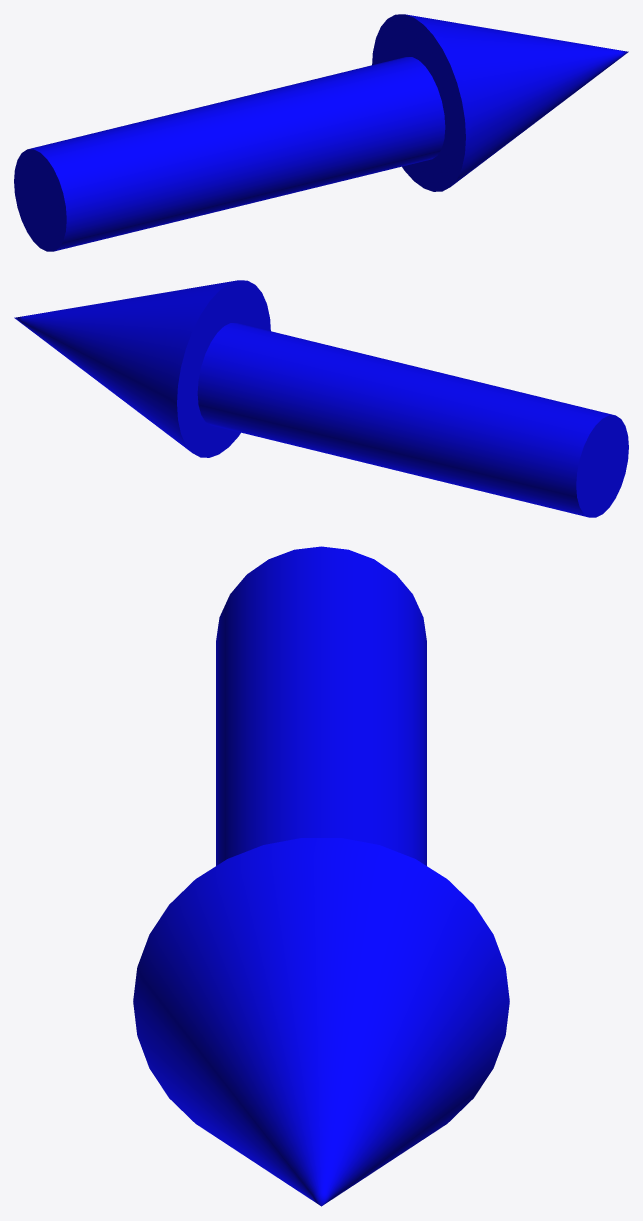
The model's file is axis.obj.
The picture shows the model from 3 angles, top to bottom: view 1: azimuth 30°, elevation 25°; view 2: azimuth 150°, elevation 25°; view 3: azimuth 270°, elevation 25°; orthographic projection. The views are drawn at different scales.
Visible parts, largest first — view 1: Cylinder_x, Cone_x; view 2: Cylinder_x, Cone_x; view 3: Cone_x, Cylinder_x.
Part boxes in pixels (x1,y1,x2,y2): Cylinder_x: [14, 57, 445, 251]; Cone_x: [372, 14, 628, 191]; Cylinder_x: [197, 323, 628, 517]; Cone_x: [14, 280, 270, 457]; Cone_x: [133, 838, 509, 1206]; Cylinder_x: [216, 546, 426, 865].
Size of the model in its own units: 1.02 by 0.2698 by 0.2816.
1 material, 1 textured.
